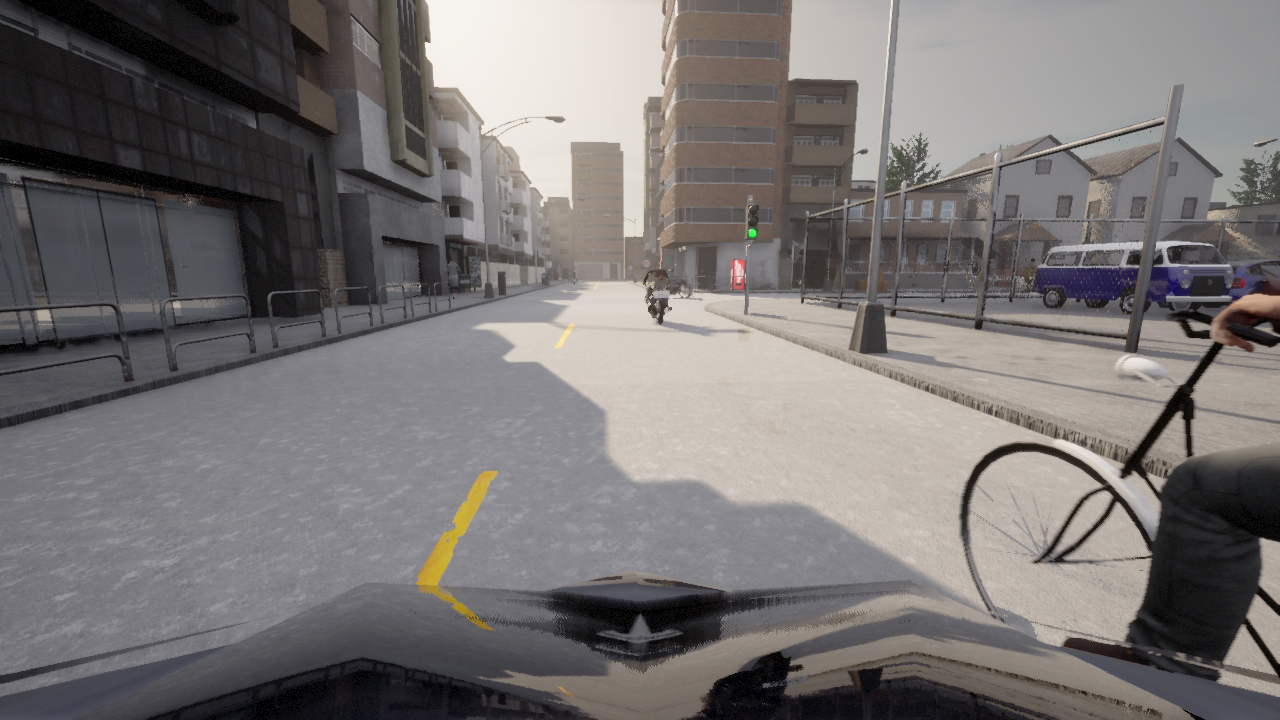cyclist: (0, 569, 1279, 719), (959, 309, 1279, 674), (1029, 241, 1233, 313), (1157, 270, 1279, 307), (1214, 259, 1279, 302), (638, 274, 672, 325), (668, 273, 691, 297), (571, 274, 576, 286)
pedestrian: (443, 257, 461, 299), (1018, 258, 1036, 294)
